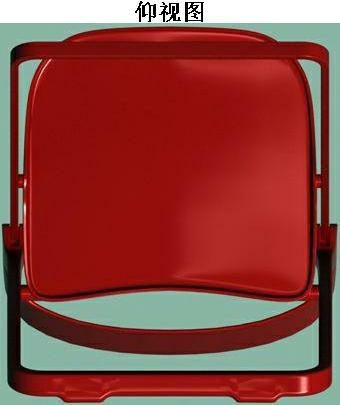obstacle: (3, 27, 335, 401)
